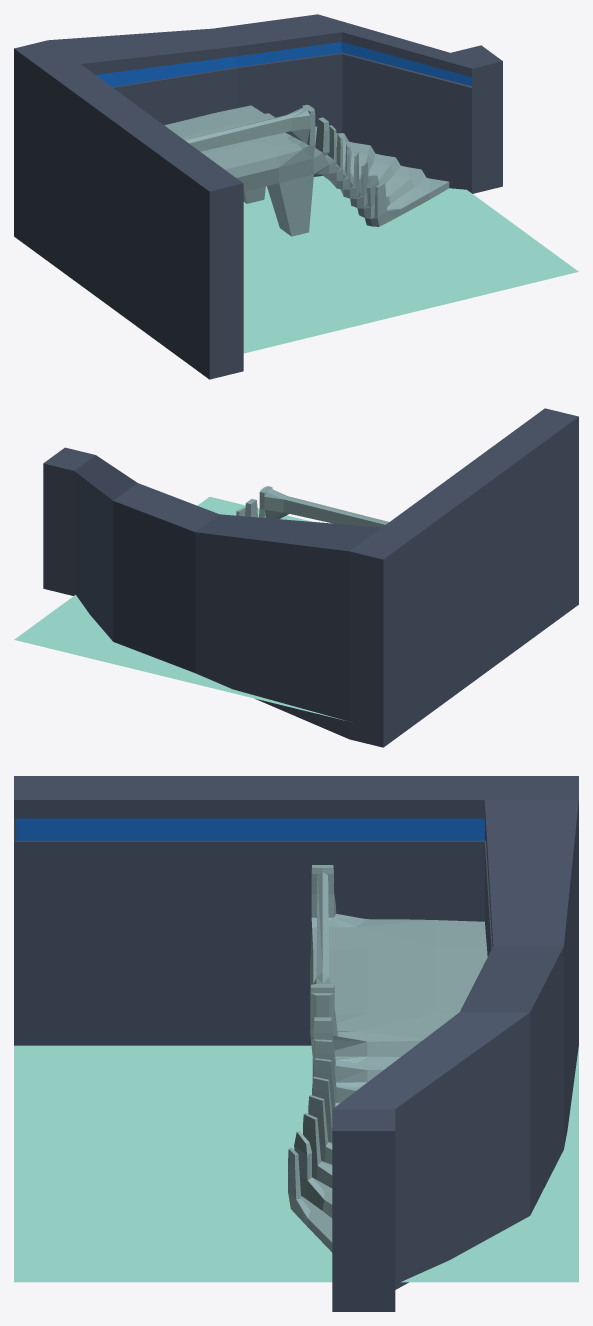
File: sceneModel.fbx
3 views of the same model, one above another, from view 1: azimuth 30°, elevation 25°; view 2: azimuth 150°, elevation 25°; view 3: azimuth 270°, elevation 25° (orthographic). The views are drawn at different scales.
Visible parts, largest first — view 1: Cube.001; view 2: Cube.001; view 3: Cube.001.
Boxes of the visible parts, x1=… form: Cube.001: x1=14, y1=14, x2=578, y2=379; Cube.001: x1=14, y1=408, x2=578, y2=747; Cube.001: x1=14, y1=776, x2=578, y2=1311.
Size of the model in its own units: 2377 by 1058 by 1995.
